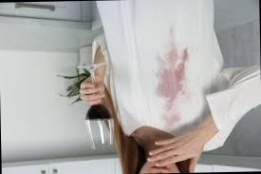wine: (155, 30, 190, 102), (159, 107, 188, 125)
